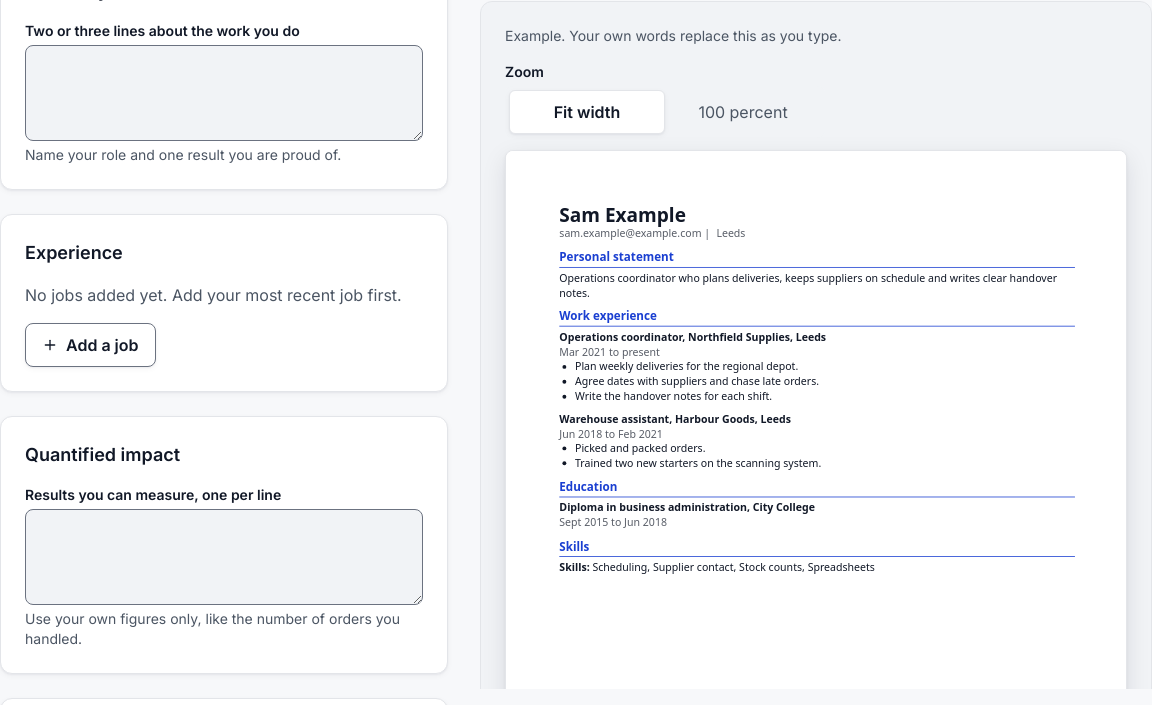
Scenario: CvBuilderShell › flags a missing start month on a job
The width and height of the screenshot is (1152, 705).
(page scrolled)
Click the button "Add a job" at (90, 345), box x1=25 y1=323 x2=156 y2=367
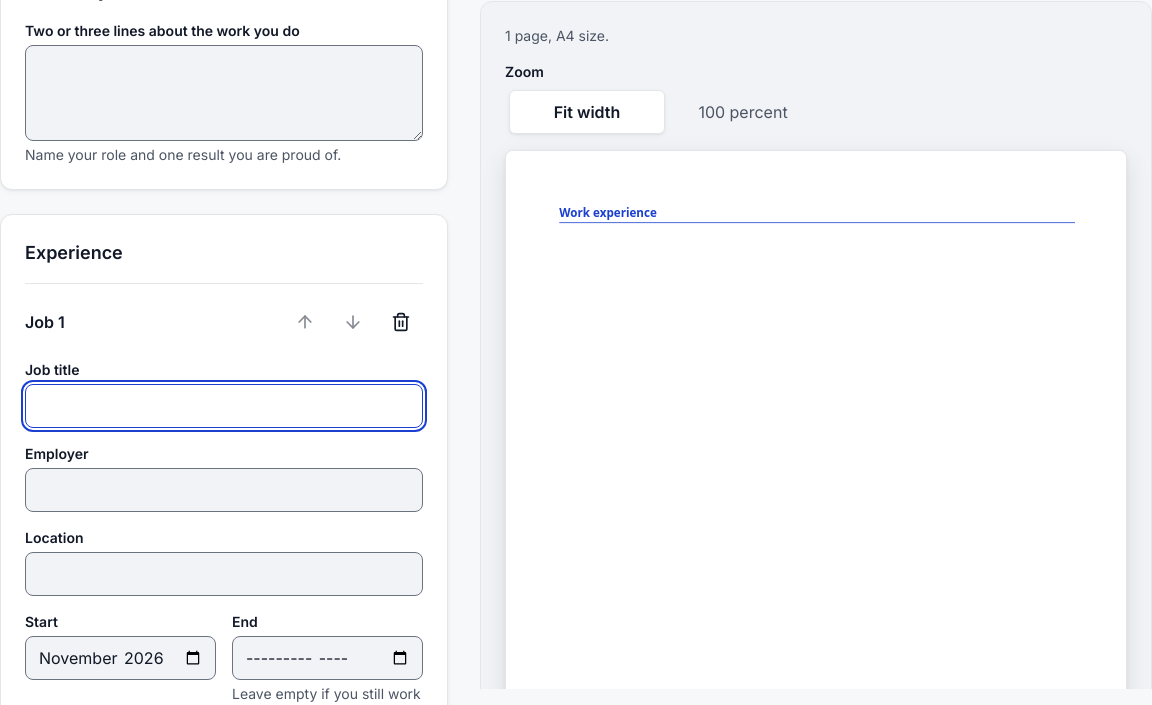
Clear the field labelled "Start" at (120, 658), box x1=25 y1=636 x2=216 y2=680
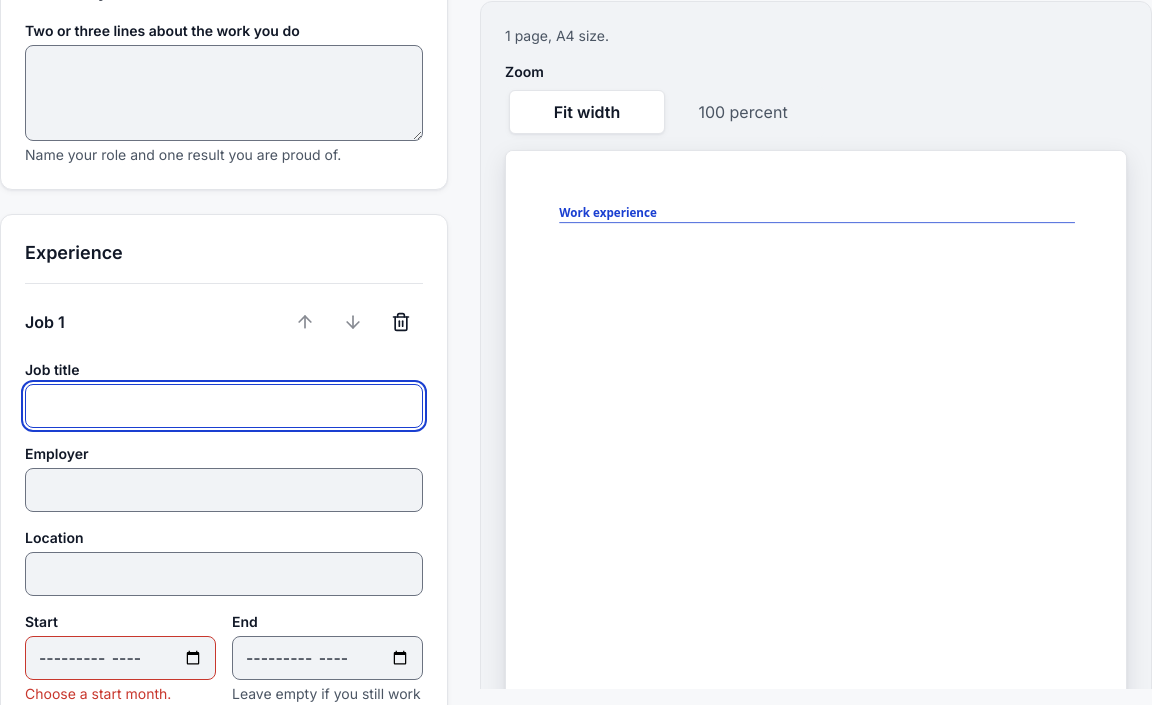
Now the message reads "Choose a start month.", box x1=25 y1=685 x2=171 y2=702
